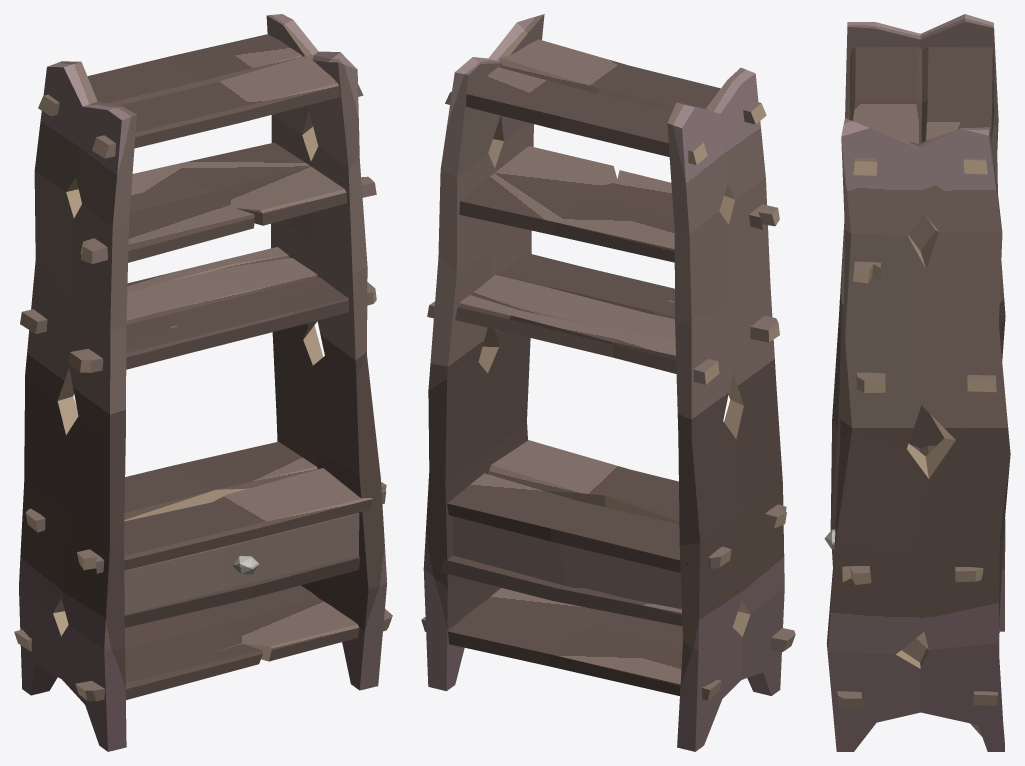
Rendered from Wardrobe_005.fbx.
3 views of the same model, side by side, from view 1: azimuth 30°, elevation 25°; view 2: azimuth 150°, elevation 25°; view 3: azimuth 270°, elevation 25° (orthographic). The views are drawn at different scales.
Parts seen in each view (by area): view 1: Wardrobe_005; view 2: Wardrobe_005; view 3: Wardrobe_005.
Boxes of the visible parts, x1,y1,x2,y2 form: Wardrobe_005: (14, 14, 392, 751); Wardrobe_005: (421, 14, 795, 751); Wardrobe_005: (824, 14, 1010, 751).
Size of the model in its own units: 116 by 227 by 61.74.
1 material, 1 textured.
